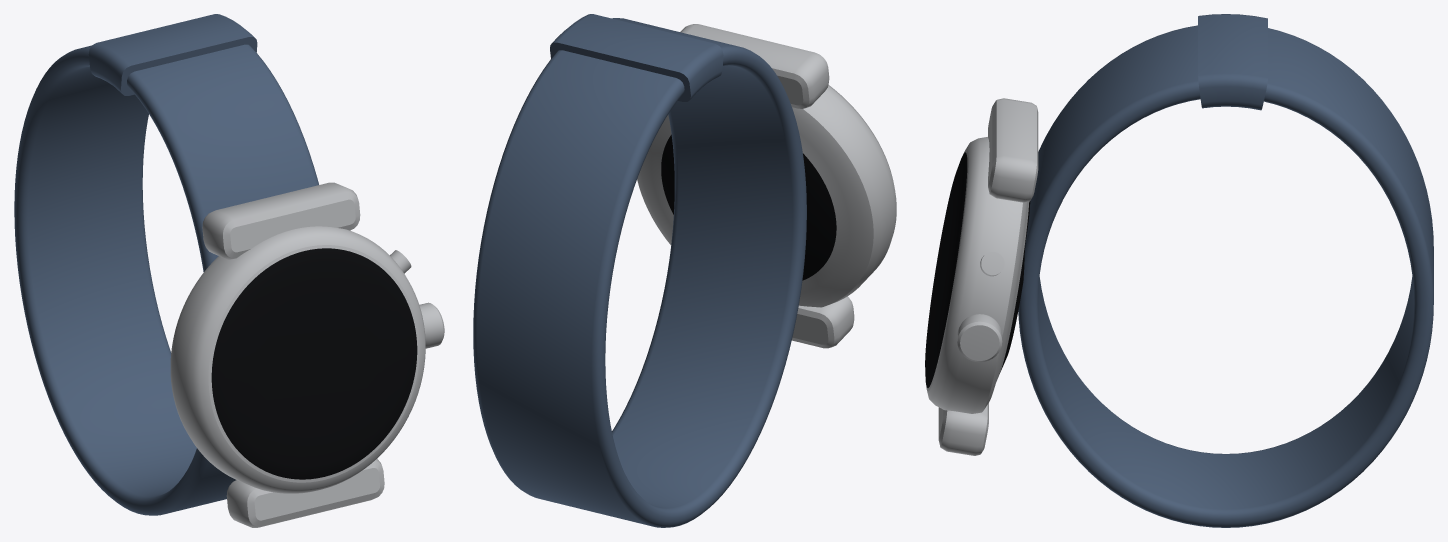
Rendered from smartwatch.glb.
3 renders of one model, left to right at view 1: azimuth 30°, elevation 25°; view 2: azimuth 150°, elevation 25°; view 3: azimuth 270°, elevation 25°, orthographic. The views are drawn at different scales.
Visible parts, largest first — view 1: smartwatch; view 2: smartwatch; view 3: smartwatch.
Boxes of the visible parts, x1,y1,x2,y2 form: smartwatch: (14,14,444,527); smartwatch: (473,14,896,527); smartwatch: (925,14,1433,527).
Bounding box in the file's own units: 0.0453 × 0.0762 × 0.0771.
